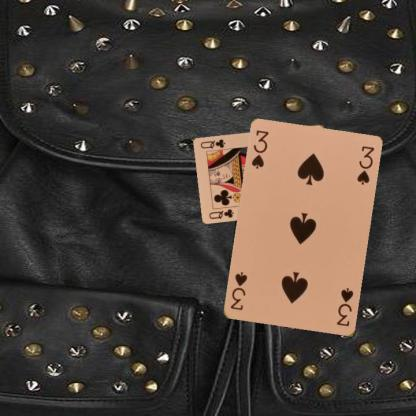3s: (334, 286, 355, 328), (249, 128, 270, 170)
Qc: (206, 206, 235, 220)
